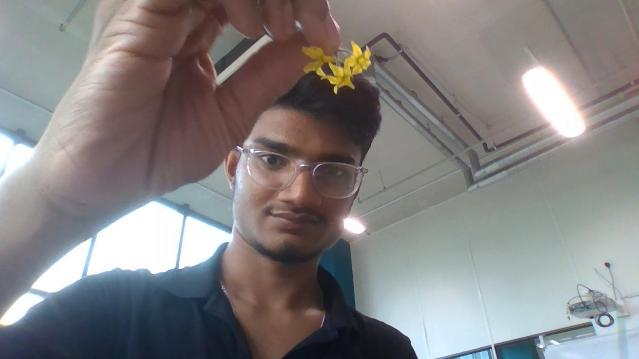Anthesis: (300, 45, 339, 76), (320, 60, 355, 93), (343, 39, 372, 75)
